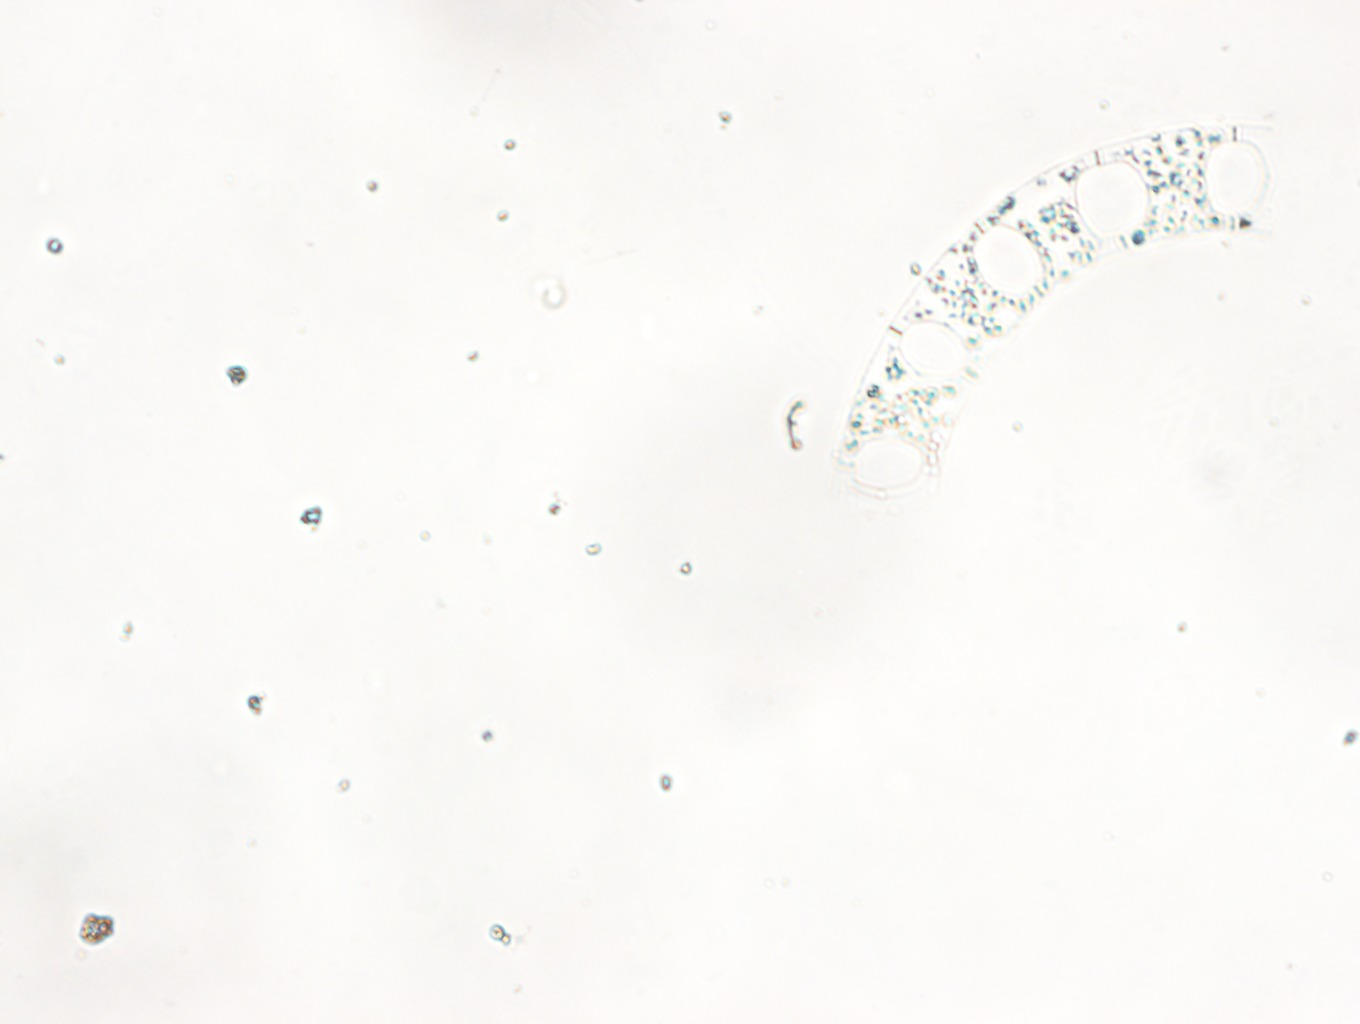eucampia: (817, 127, 1276, 514)
